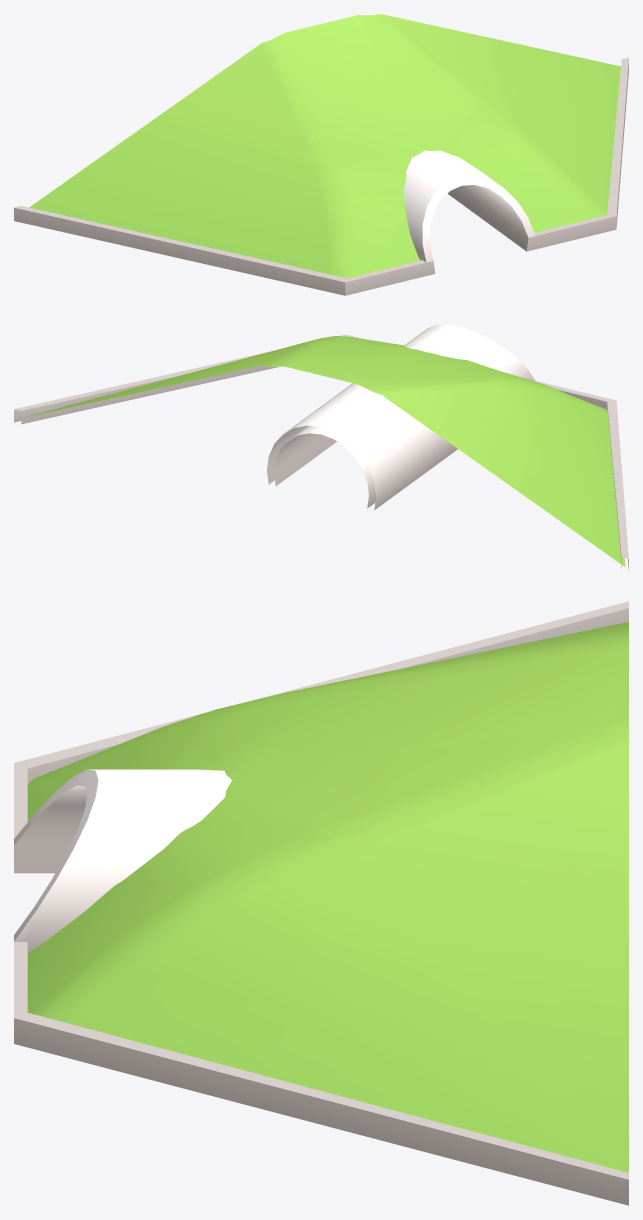
File: Tunnel_01.glb
The picture shows the model from 3 angles, top to bottom: view 1: azimuth 30°, elevation 25°; view 2: azimuth 150°, elevation 25°; view 3: azimuth 270°, elevation 25°; orthographic projection. The views are drawn at different scales.
Visible parts, largest first — view 1: Tunnel_01; view 2: Tunnel_01; view 3: Tunnel_01.
Boxes of the visible parts, bbox=[...] form: Tunnel_01: bbox=[14, 14, 628, 295]; Tunnel_01: bbox=[14, 324, 628, 570]; Tunnel_01: bbox=[14, 601, 628, 1205].
Size of the model in its own units: 100 by 19.01 by 45.
1 material, 1 textured.
